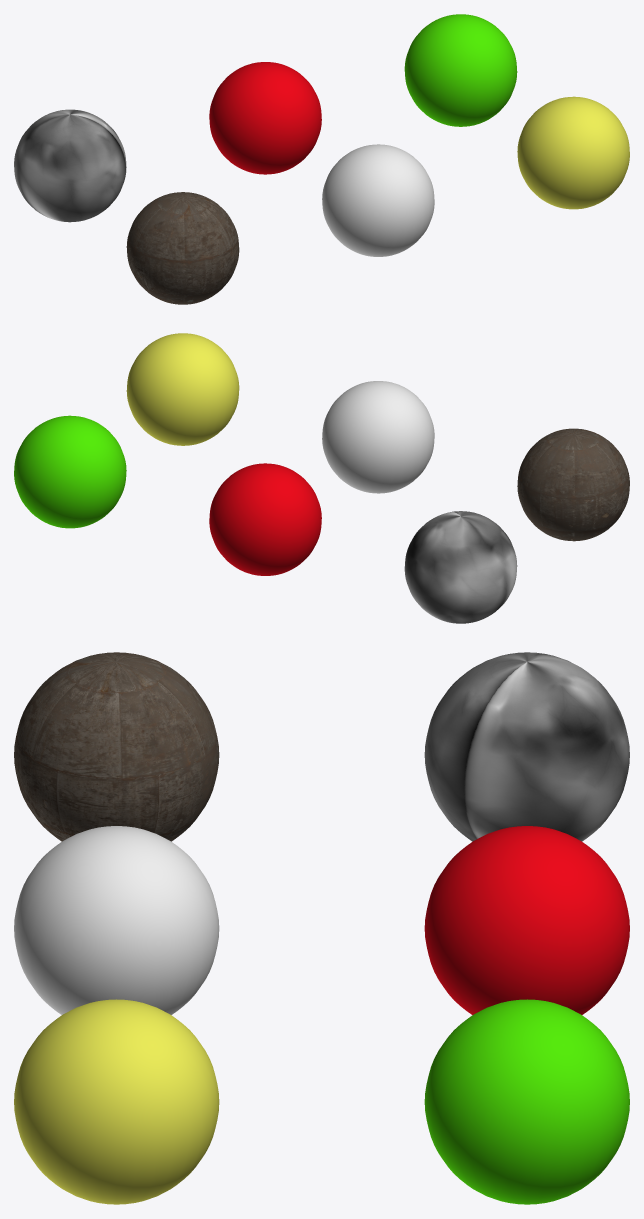
The model's file is pbr.glb.
3 views of the same model, one above another, from view 1: azimuth 30°, elevation 25°; view 2: azimuth 150°, elevation 25°; view 3: azimuth 270°, elevation 25° (orthographic). The views are drawn at different scales.
Visible parts, largest first — view 1: Sphere, Sphere.002, Sphere.003, Sphere.004, Sphere.005, Sphere.006; view 2: Sphere, Sphere.002, Sphere.003, Sphere.004, Sphere.005, Sphere.006; view 3: Sphere.002, Sphere.006, Sphere, Sphere.003, Sphere.004, Sphere.005.
Boxes of the visible parts, x1,y1,x2,y2 form: Sphere: (322,144,434,256); Sphere.002: (517,96,629,209); Sphere.003: (126,192,239,304); Sphere.004: (14,109,126,222); Sphere.005: (209,62,321,174); Sphere.006: (404,14,517,126); Sphere: (322,381,434,493); Sphere.002: (126,333,239,445); Sphere.003: (517,428,629,541); Sphere.004: (404,511,517,623); Sphere.005: (209,463,321,575); Sphere.006: (14,415,126,528); Sphere.002: (14,999,219,1204); Sphere.006: (424,999,629,1204); Sphere: (14,826,219,1014); Sphere.003: (14,652,219,841); Sphere.004: (424,652,629,841); Sphere.005: (424,826,629,1014).
Bounding box in the file's own units: 5 × 1 × 3.
6 materials, 2 textured.
